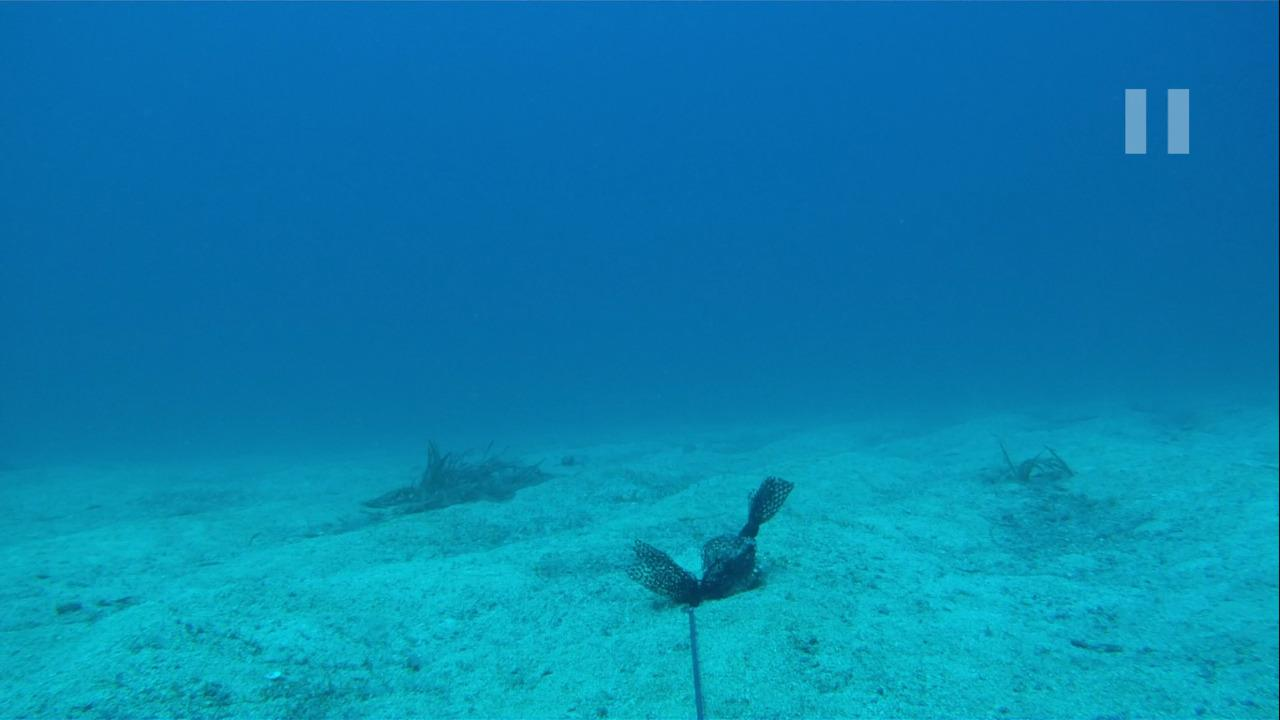dactylopterus: (548, 445, 623, 473)
